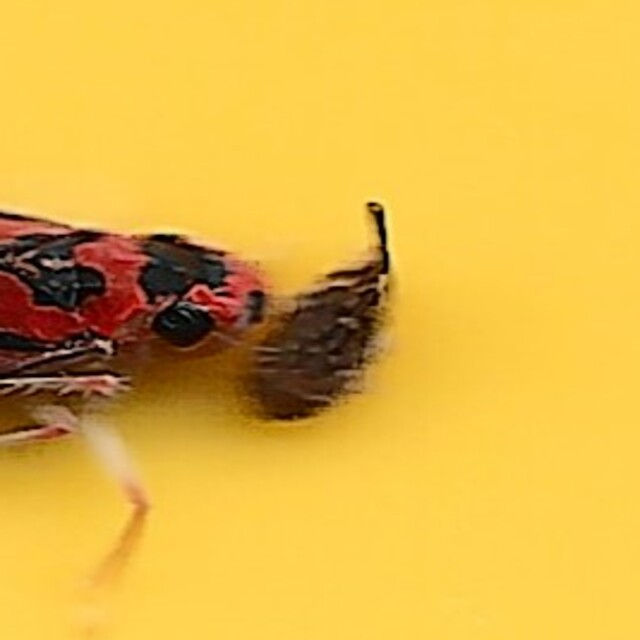Coleoptera: (240, 199, 400, 441)
